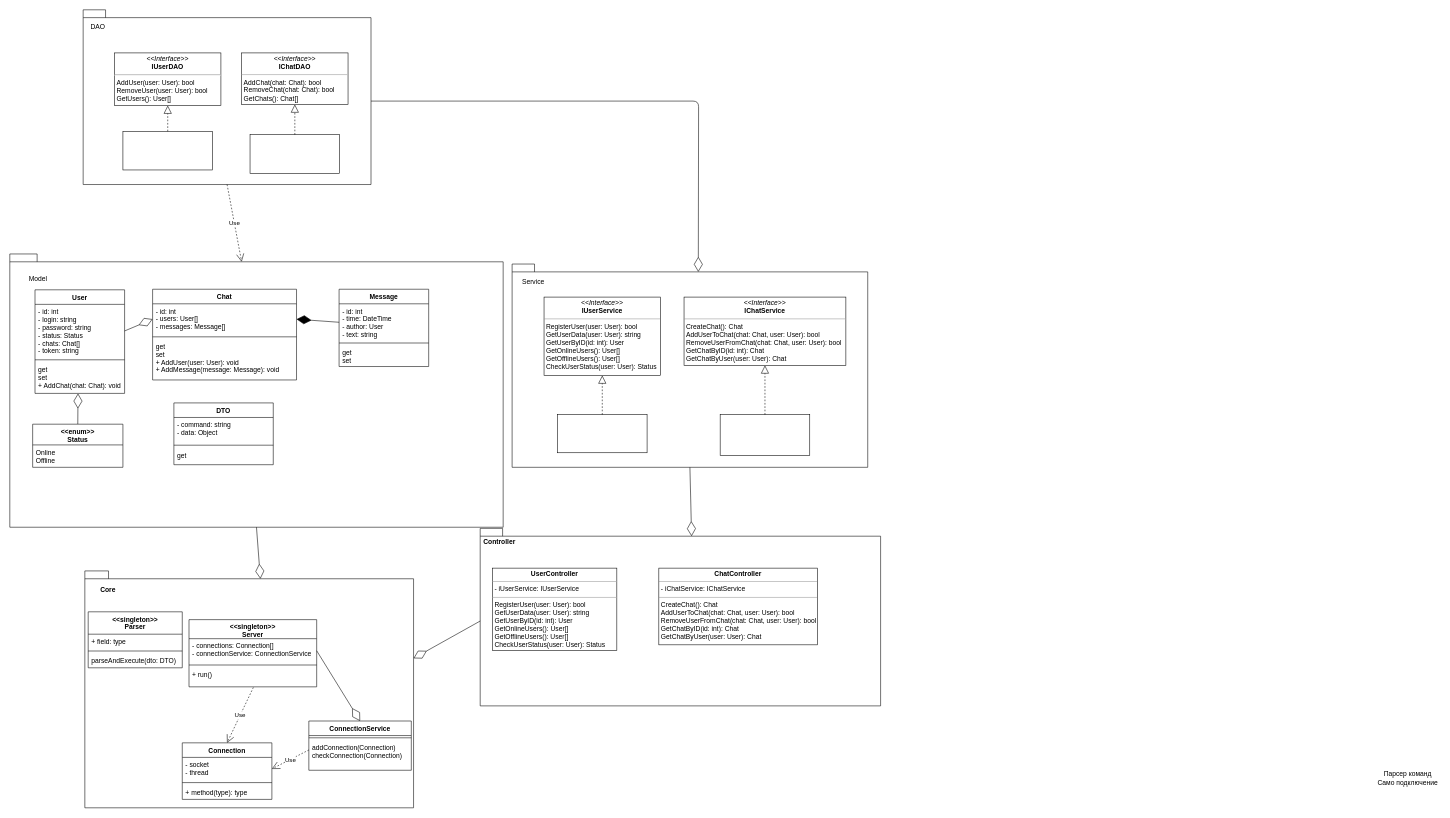
Image size: 1450x818. Some labels were removed from this diagram. The centre of each missing label's shape, as x and y in pixels:
"<<singleton>> ChatDAO - _chats: Chat[]" belongs at [294,153].
"<<singleton>> ChatService - chatDAO: IChatDAO" belongs at [765,435].
"<<singleton>> UserDAO - _users: User[]" belongs at [167,150].
"<<singleton>> UserService - userDAO: IUserDAO" belongs at [602,433].
